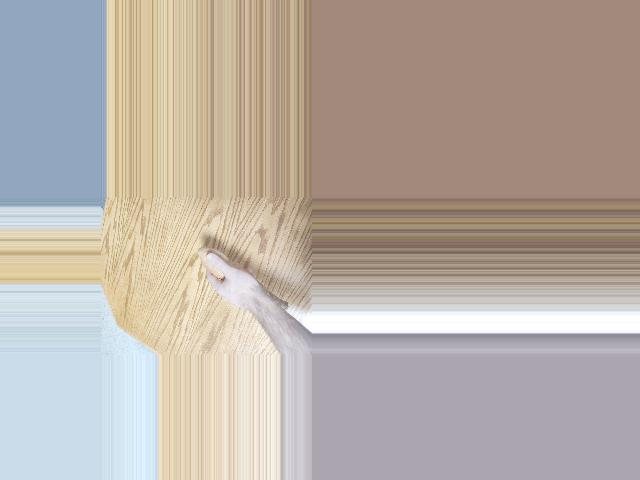sweet_potato: (198, 246, 291, 311)
